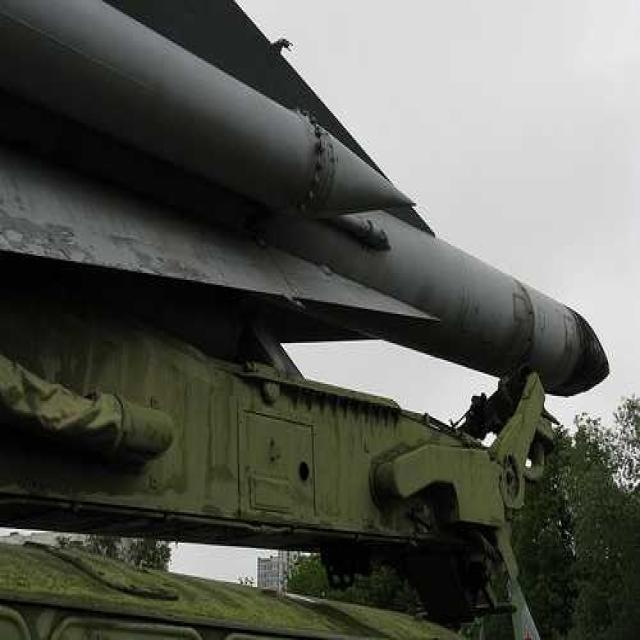missile: (0, 0, 628, 407)
